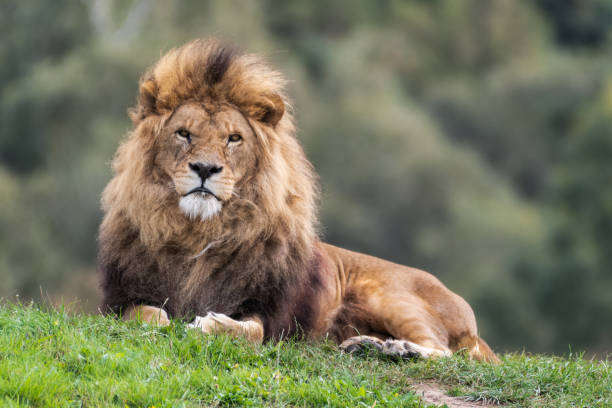lion: (82, 31, 322, 327)
